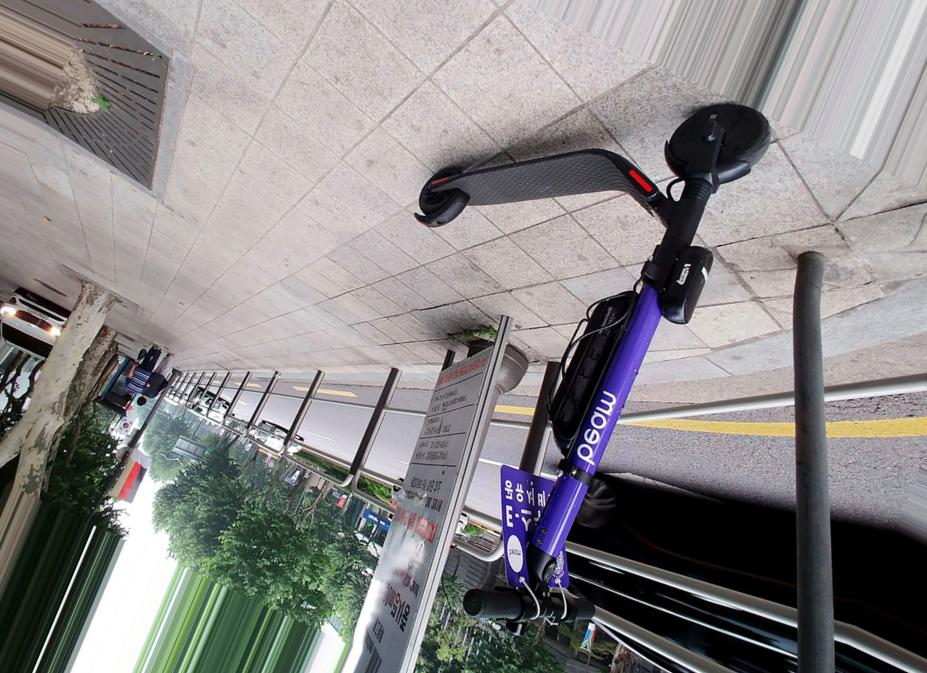scooter: (412, 103, 775, 635)
